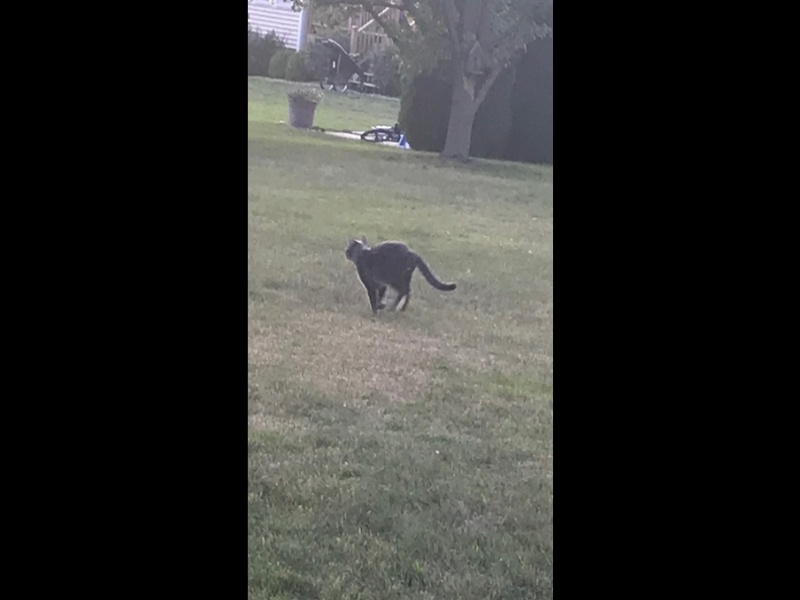cat: (343, 235, 461, 318)
